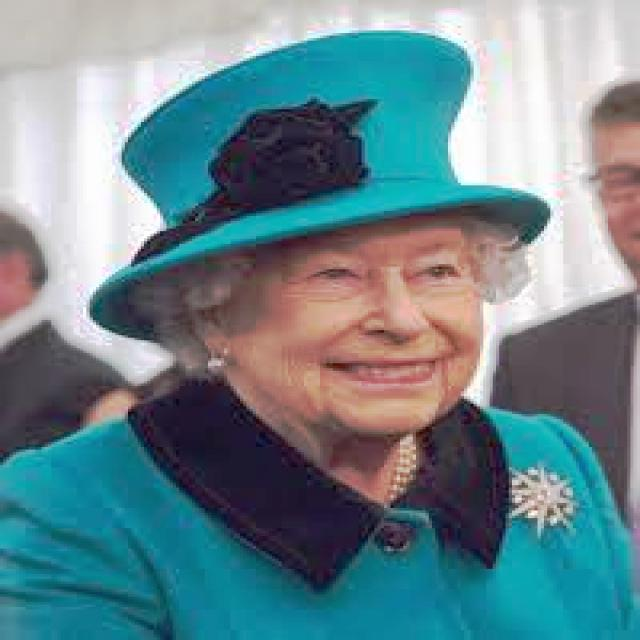TOPI: (86, 21, 554, 340)
